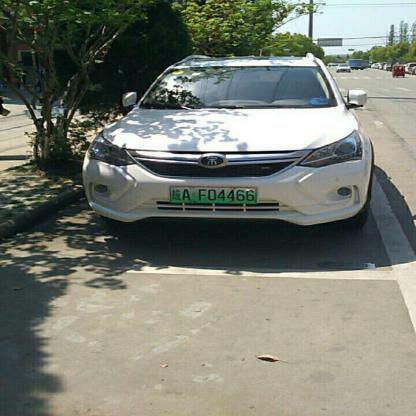lp: (170, 187, 255, 202)
